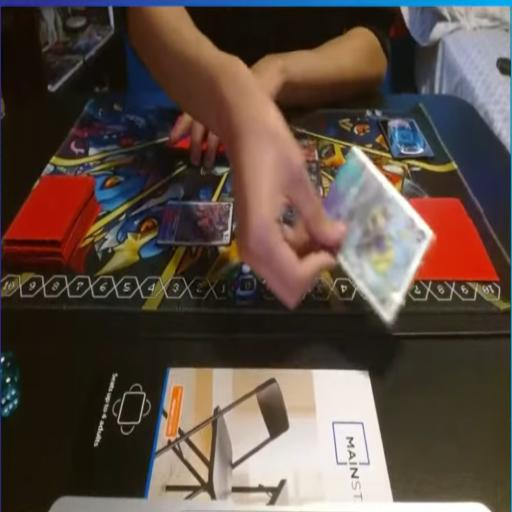card: (322, 151, 432, 331), (155, 199, 234, 250)
